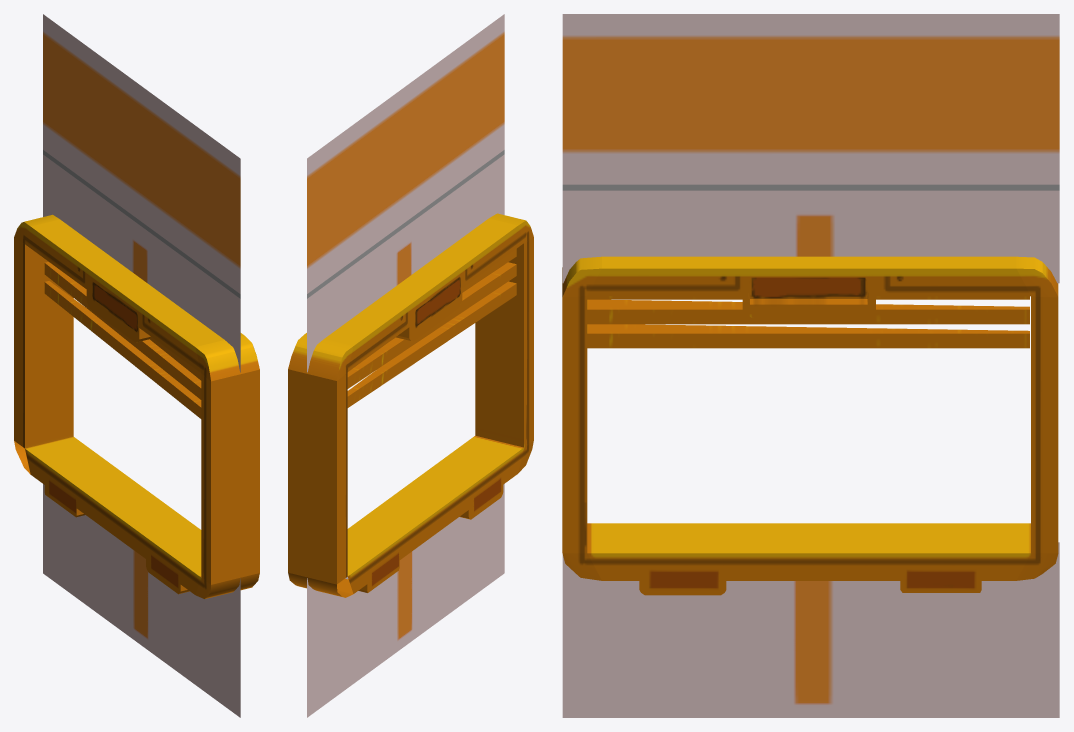
The model's file is Wall2_2.fbx.
3 views of the same model, side by side, from view 1: azimuth 30°, elevation 25°; view 2: azimuth 150°, elevation 25°; view 3: azimuth 270°, elevation 25° (orthographic). The views are drawn at different scales.
Parts seen in each view (by area): view 1: Wall2_2; view 2: Wall2_2; view 3: Wall2_2.
Boxes of the visible parts, x1,y1,x2,y2 form: Wall2_2: (14, 14, 259, 717); Wall2_2: (288, 14, 533, 717); Wall2_2: (562, 14, 1059, 717).
Bounding box in the file's own units: 21.9 × 240 × 153.
